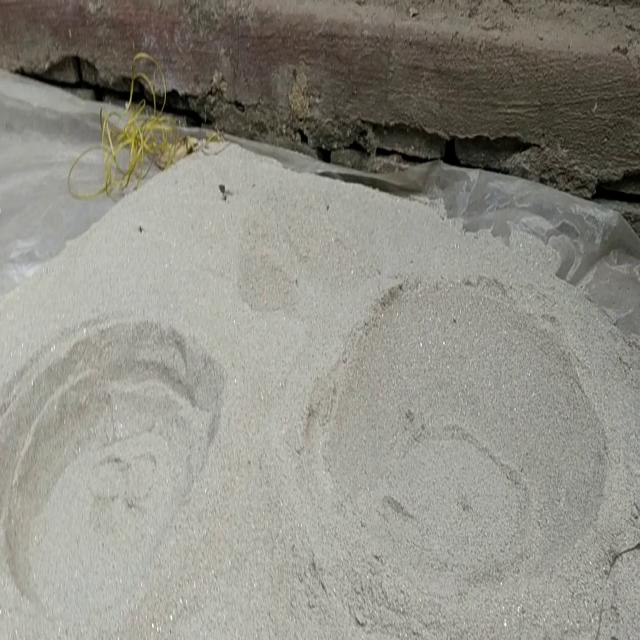C20: (305, 278, 605, 636), (0, 324, 210, 627)
